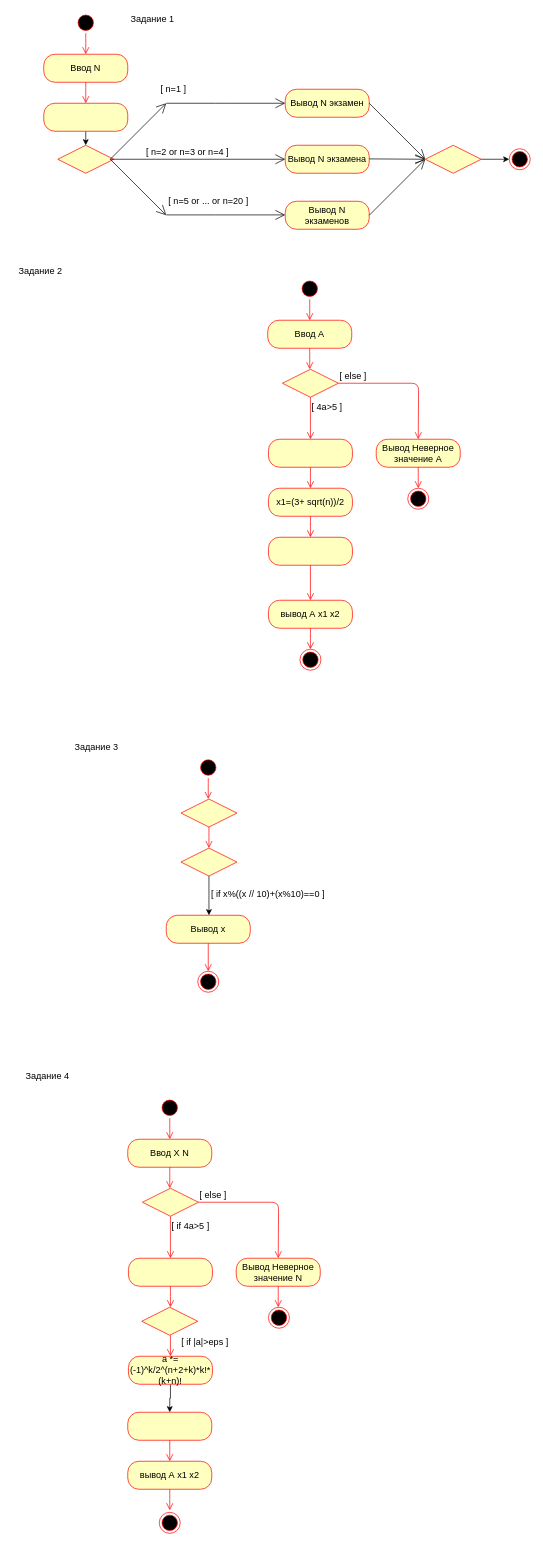
This 543x1546 diagram has some shape labels left out. The shapes that lost their labels are listed below. From the top down, each one's centre as x and y in pixels, then its label:
the point at 85,117: Вывод "Мы успешно сдали "
the point at 310,453: n=-5+4a
the point at 310,551: x1=(3- sqrt(n))/2
the point at 170,1272: k=0 a=x s=0 b=(x/2)^n
the point at 169,1426: s+=a k+=1
